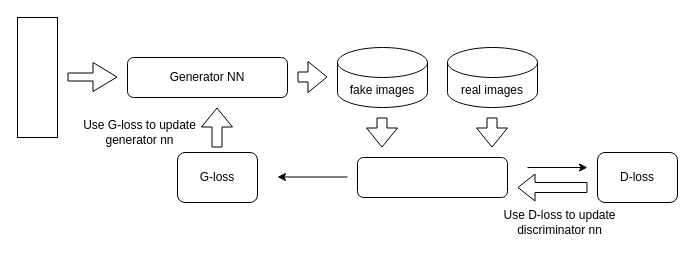
The diagram is 695 pixels wide and 255 high, and some of its shapes have lost their labels. The shapes that lost their labels are listed below. From the top down, each one's centre as x and y in pixels, then its label:
[37,77]: noise
[432,177]: Discriminator NN
